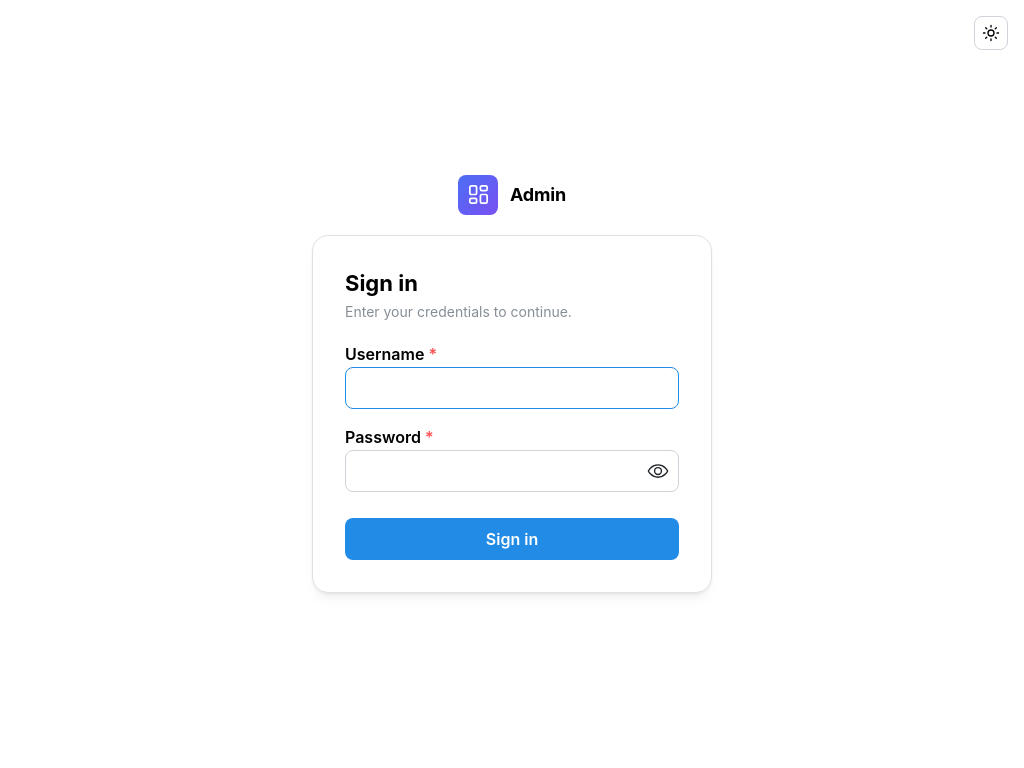
Test: App nav after a fresh sign-in › shows the permitted page without a reload
The image size is (1024, 768).
Type "alice" into the field labelled "Username *". click: (512, 388)
box: [345,367,679,409]
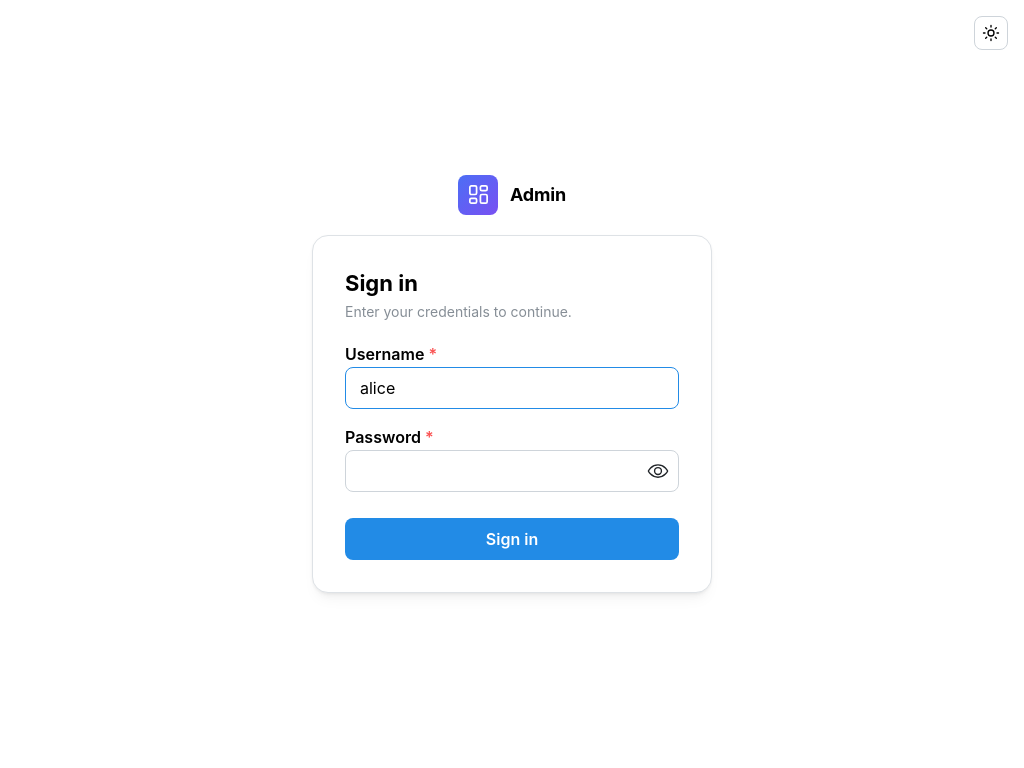
Type "hunter2" into the password field labelled "Password *". click: (512, 471)
box: [346,451,678,491]
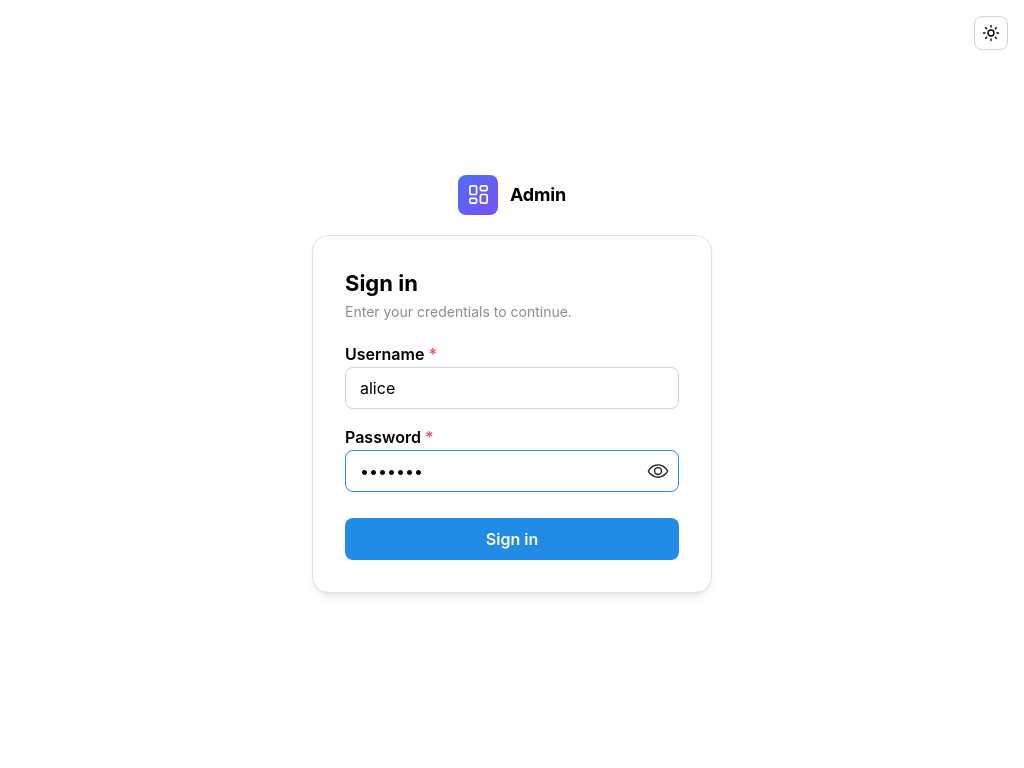
Click the button "Sign in". click: click(512, 539)
box: [345,518,679,560]
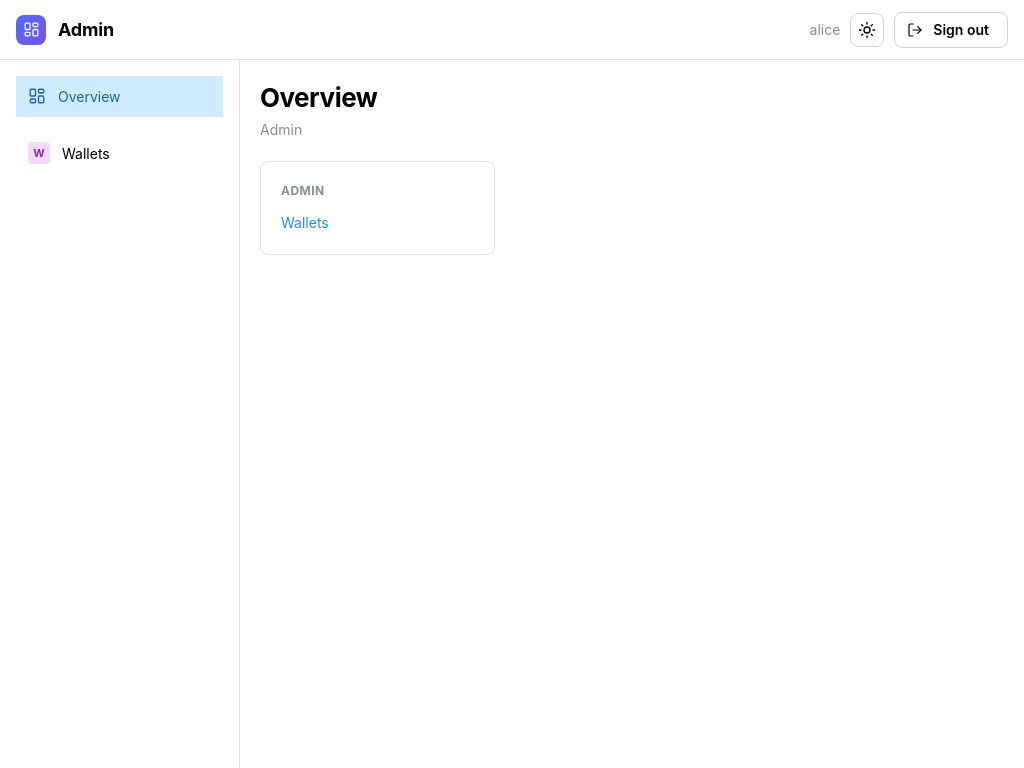
Now the text "Wallets" is shown, box [62,145,110,162]
